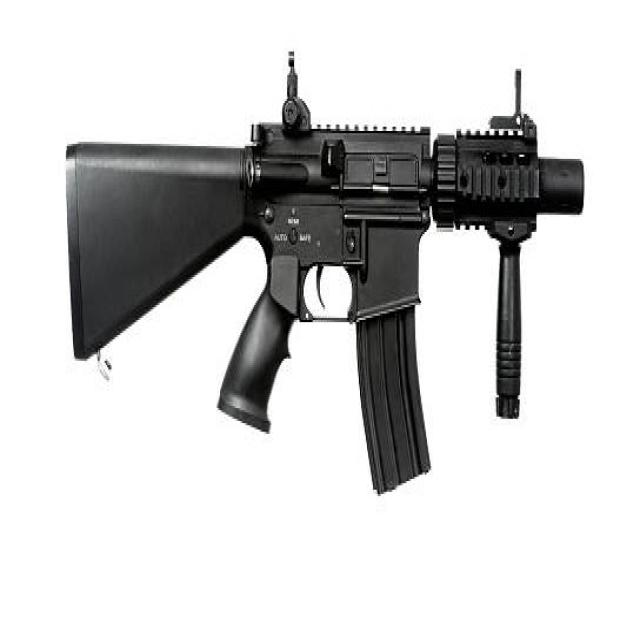rifle: (61, 38, 592, 504)
